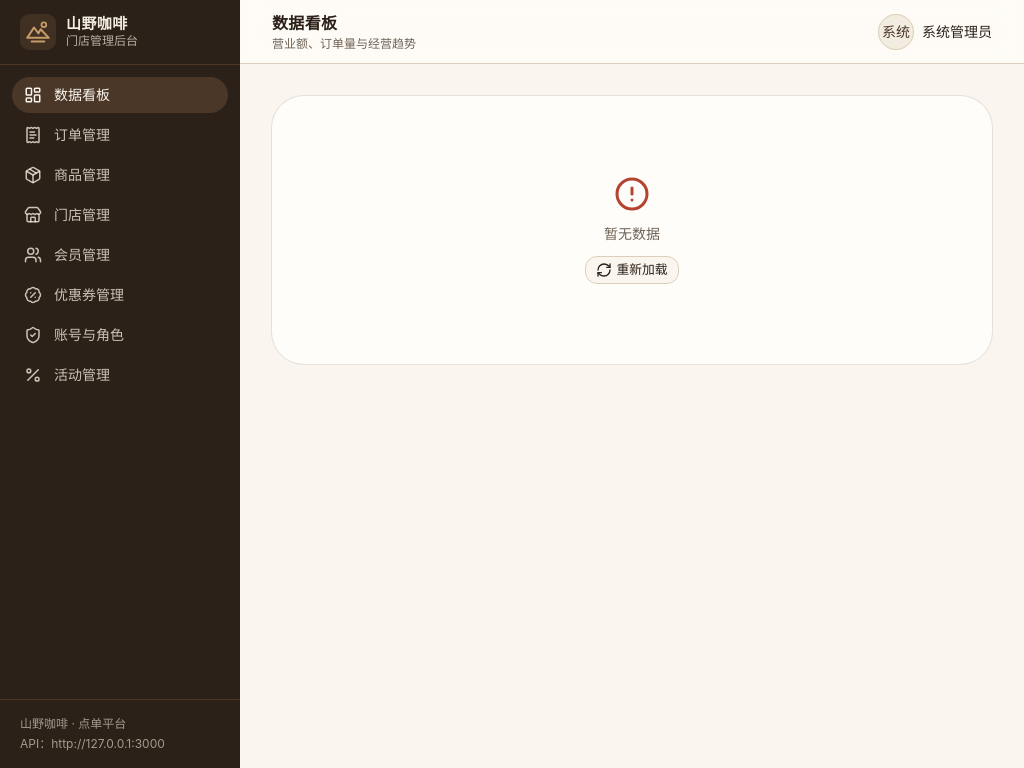
Scenario: 登录流程 › 退出登录后回到登录页
Click the text "系统管理员" at (957, 32), box x1=922 y1=22 x2=992 y2=42
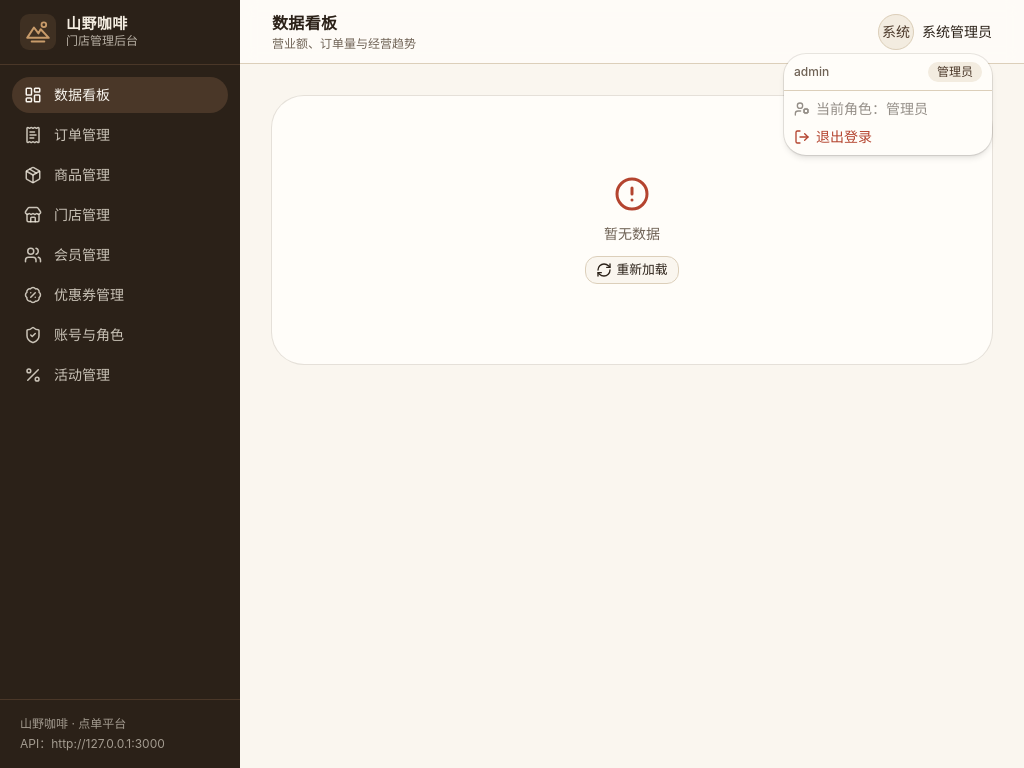
Click the menu item "退出登录" at (833, 136), box x1=794 y1=128 x2=872 y2=145
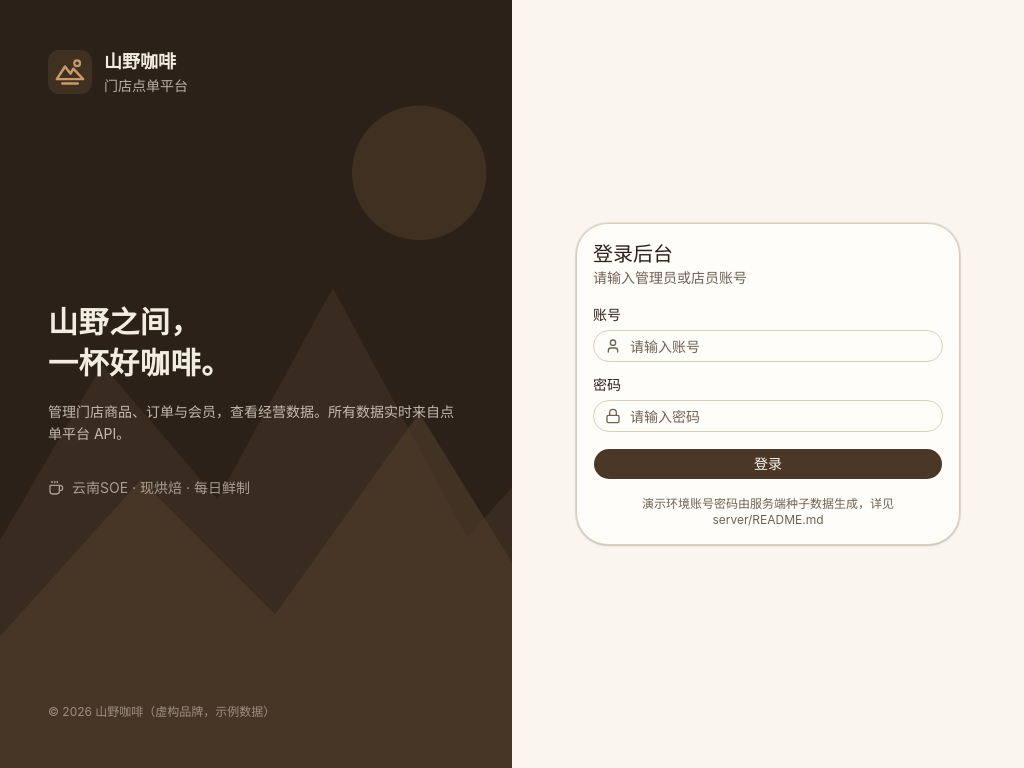
Expected: the button "登录" is shown, x1=593 y1=448 x2=943 y2=480
